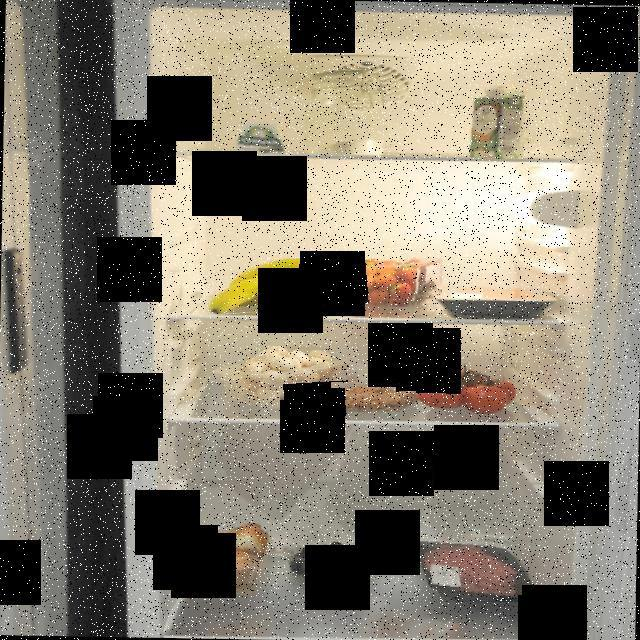banana: (208, 258, 344, 316)
blueberries: (288, 540, 379, 586)
flour: (303, 70, 395, 154)
goat_cheese: (234, 120, 292, 156)
ground_beef: (412, 531, 556, 602)
heavy_cream: (469, 85, 526, 159)
mushrooms: (216, 346, 358, 404)
onion: (188, 520, 262, 587)
shrimp: (331, 382, 416, 416)
strawberries: (346, 258, 442, 305)
tomato: (412, 360, 520, 414)
